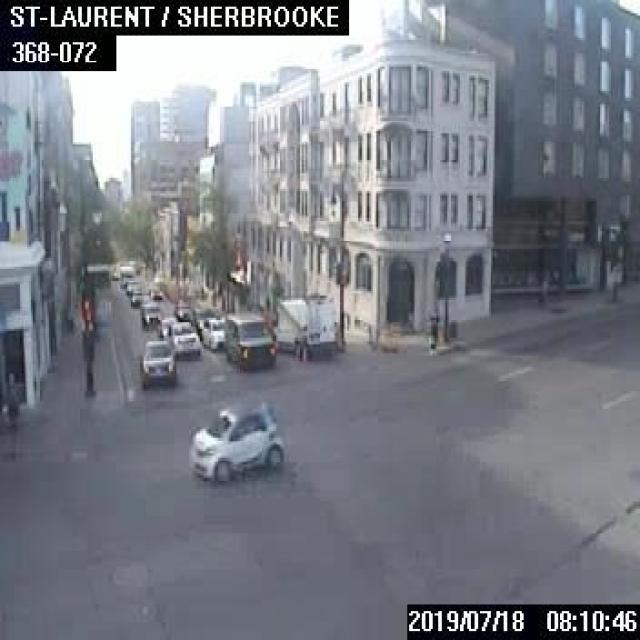pedestrian: (427, 301, 439, 354), (4, 371, 16, 423)
vehicle: (187, 402, 280, 478), (274, 298, 336, 358), (223, 312, 274, 368), (137, 338, 175, 384), (167, 321, 199, 353), (200, 316, 224, 348), (191, 308, 215, 337), (140, 303, 160, 325), (156, 316, 176, 336), (173, 302, 191, 319), (128, 289, 144, 305), (119, 271, 132, 285), (125, 279, 137, 293), (148, 286, 161, 298)
